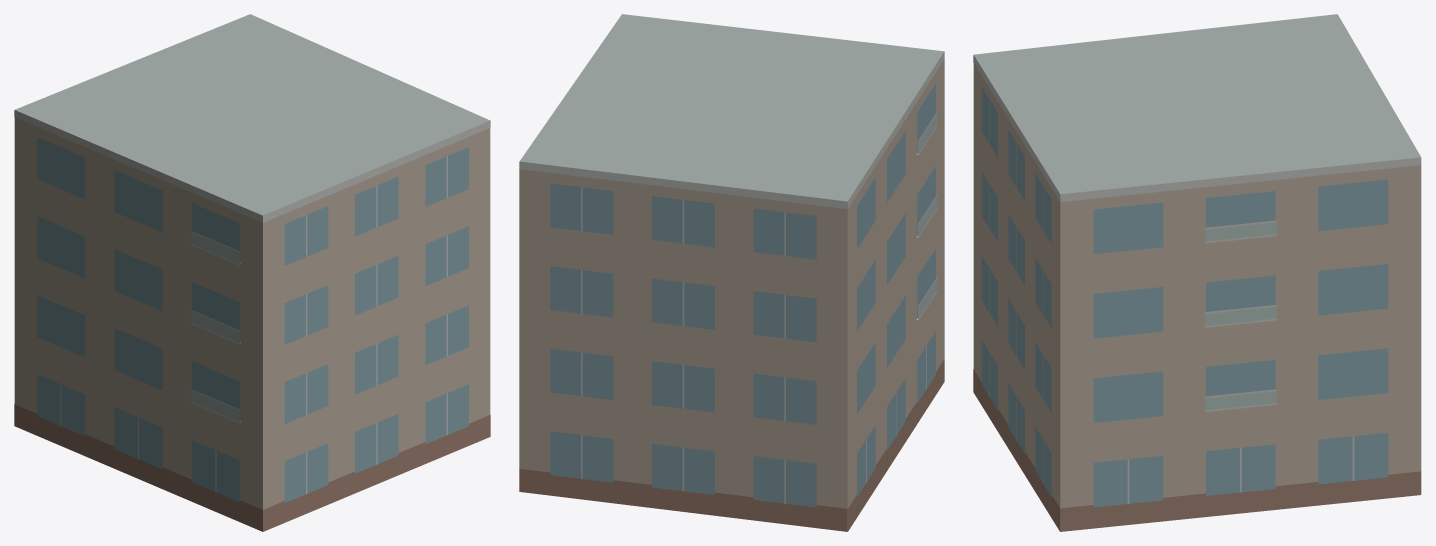
Rendered from survey-upis-32586500.glb.
3 views of the same model, side by side, from view 1: azimuth 30°, elevation 25°; view 2: azimuth 150°, elevation 25°; view 3: azimuth 270°, elevation 25° (orthographic). The views are drawn at different scales.
Parts seen in each view (by area): view 1: survey-upis-32586500.tmp; view 2: survey-upis-32586500.tmp; view 3: survey-upis-32586500.tmp.
Part boxes in pixels (x1=…): survey-upis-32586500.tmp: x1=14, y1=14, x2=490, y2=531; survey-upis-32586500.tmp: x1=519, y1=14, x2=944, y2=531; survey-upis-32586500.tmp: x1=973, y1=14, x2=1421, y2=531.
Bounding box in the file's own units: 12.15 × 10.6 × 12.76.
